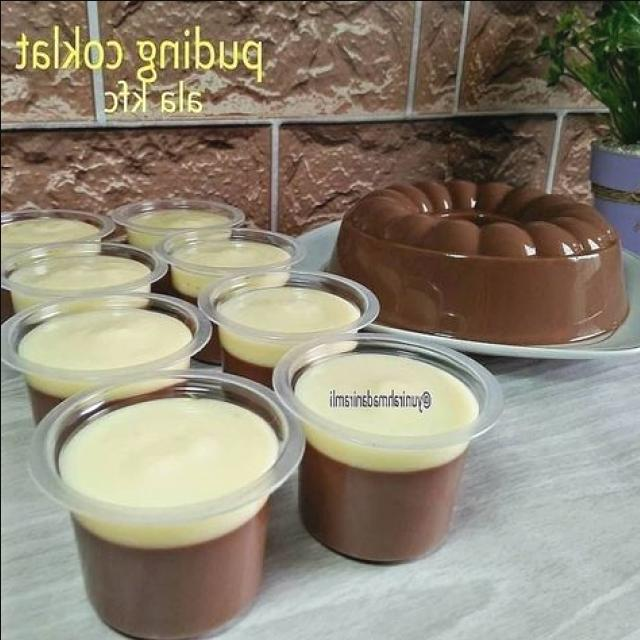puding: (31, 371, 301, 640), (332, 180, 628, 347)
